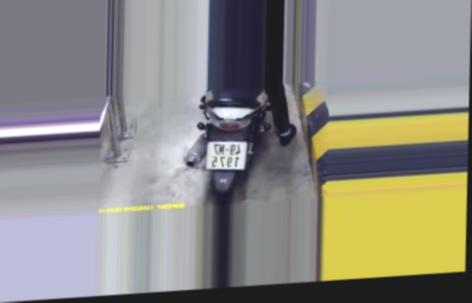License_Plate: (202, 137, 252, 175)
